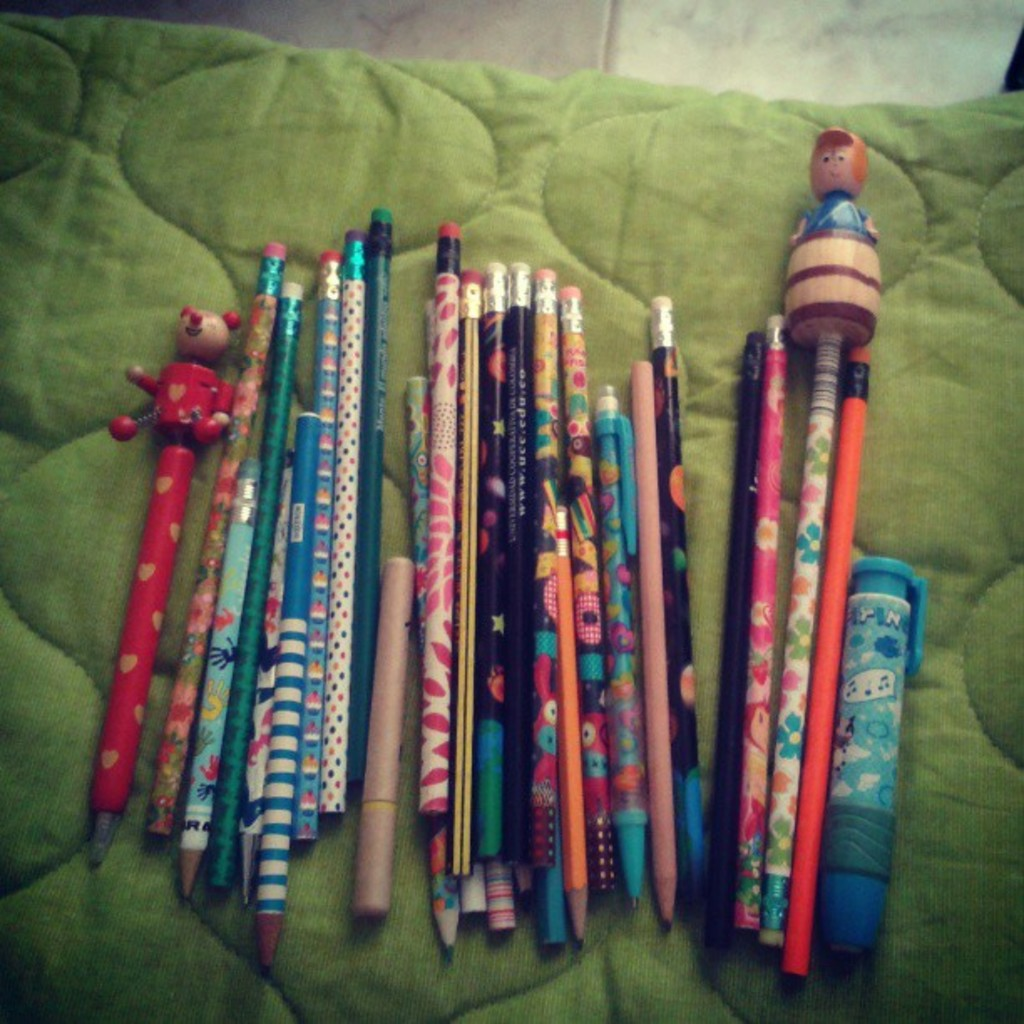Pen: (348, 561, 428, 915)
